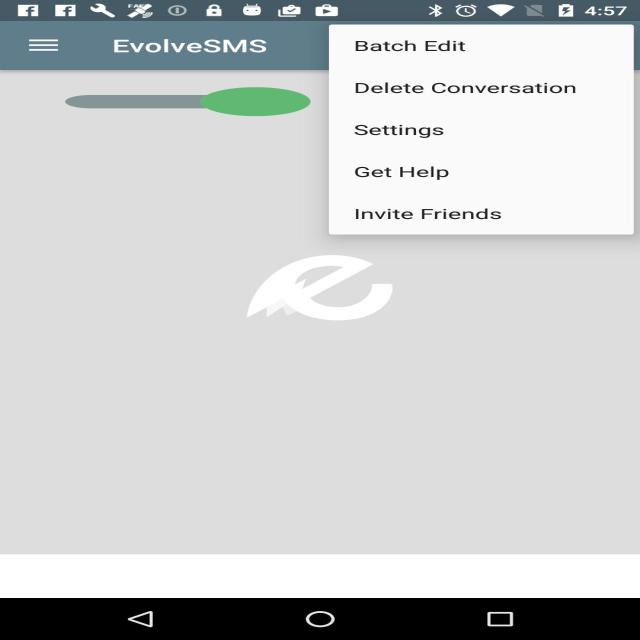social proof: (65, 69, 311, 134)
